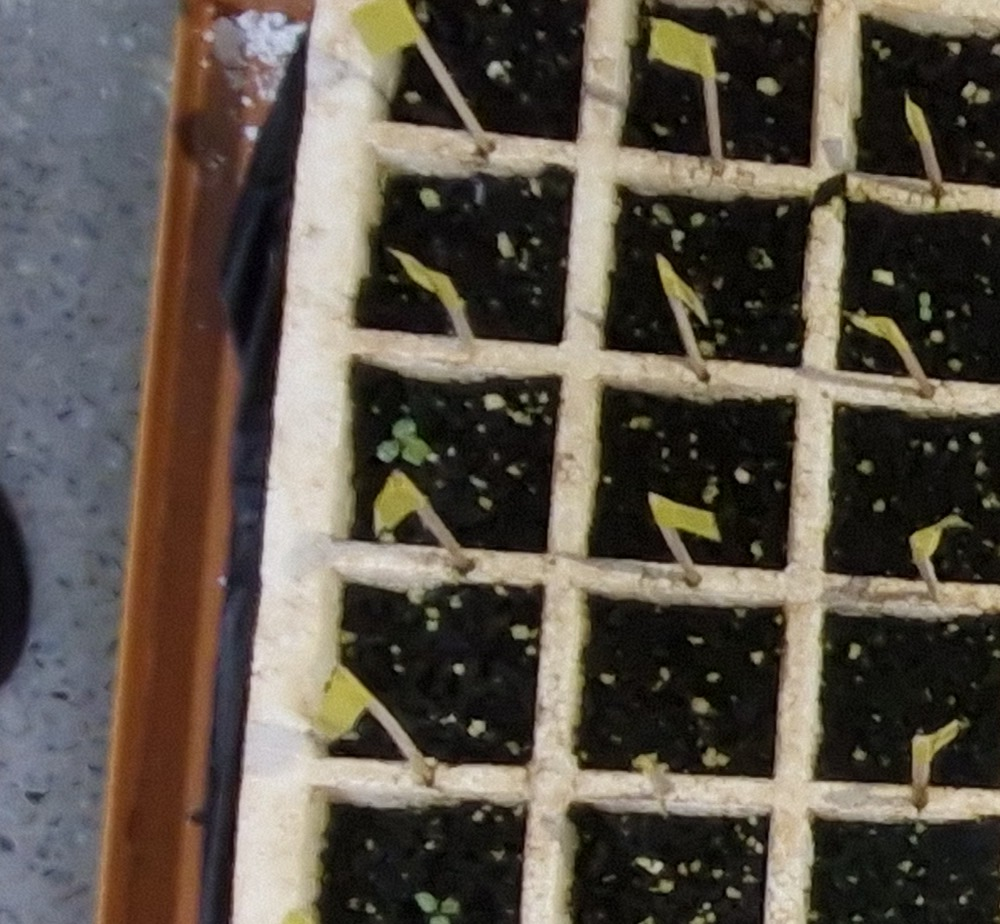Folha: (401, 438, 433, 465), (393, 418, 416, 440), (378, 440, 398, 463), (416, 893, 436, 912), (441, 897, 459, 914), (919, 307, 933, 322), (918, 292, 931, 306), (430, 917, 450, 924)
Germinacao: (376, 416, 431, 465), (417, 892, 461, 924), (918, 291, 933, 322)
